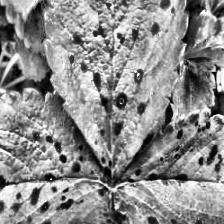Leaf Spot: (42, 0, 190, 187), (0, 86, 120, 224), (111, 108, 224, 224), (168, 58, 217, 123), (4, 0, 50, 23), (180, 0, 218, 16)
